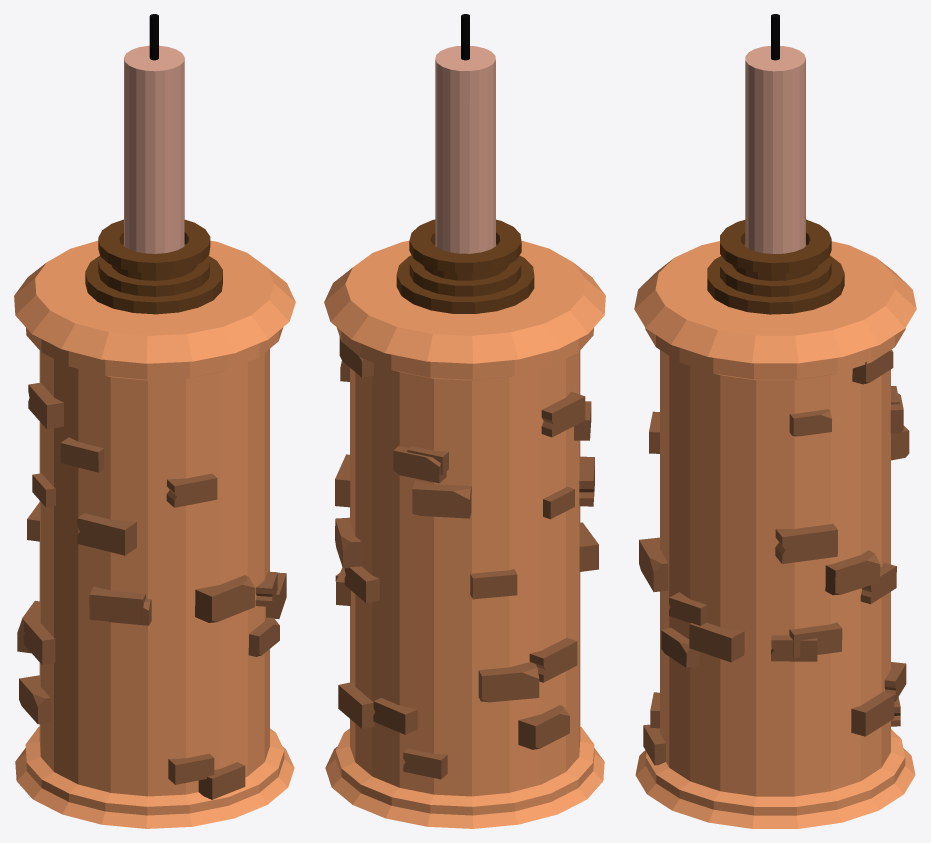
File: Candle.fbx
3 renders of one model, left to right at view 1: azimuth 30°, elevation 25°; view 2: azimuth 150°, elevation 25°; view 3: azimuth 270°, elevation 25°, orthographic.
Visible parts, largest first — view 1: Collumn.004|Cube.004|Dupli|29; view 2: Collumn.004|Cube.004|Dupli|29; view 3: Collumn.004|Cube.004|Dupli|29.
Part boxes in pixels (left/top/right/bottom): Collumn.004|Cube.004|Dupli|29: left=14, top=14, right=295, bottom=828; Collumn.004|Cube.004|Dupli|29: left=324, top=14, right=605, bottom=828; Collumn.004|Cube.004|Dupli|29: left=634, top=14, right=916, bottom=828.
Size of the model in its own units: 40.26 by 119 by 40.4.
